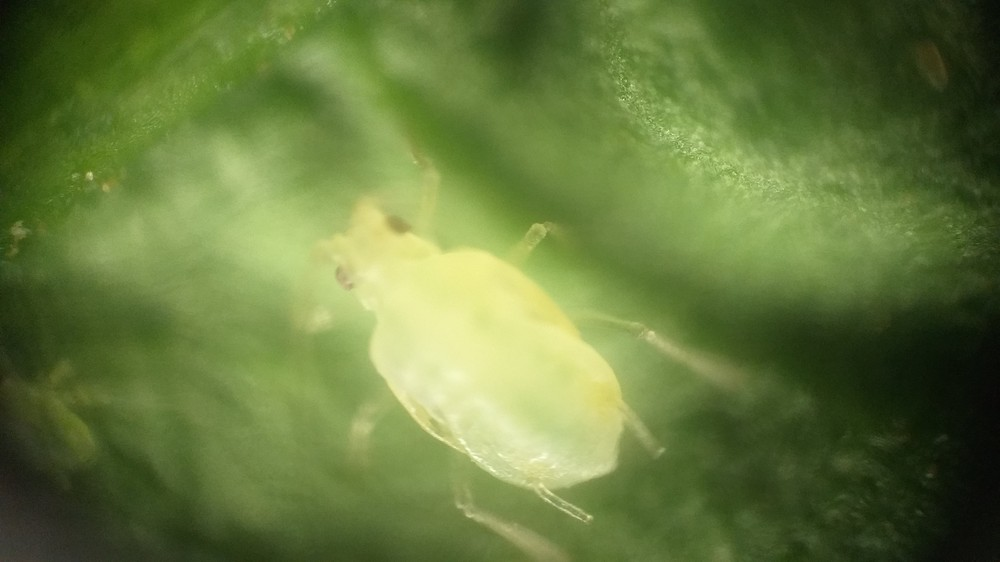Pulgon: (260, 154, 787, 553)
